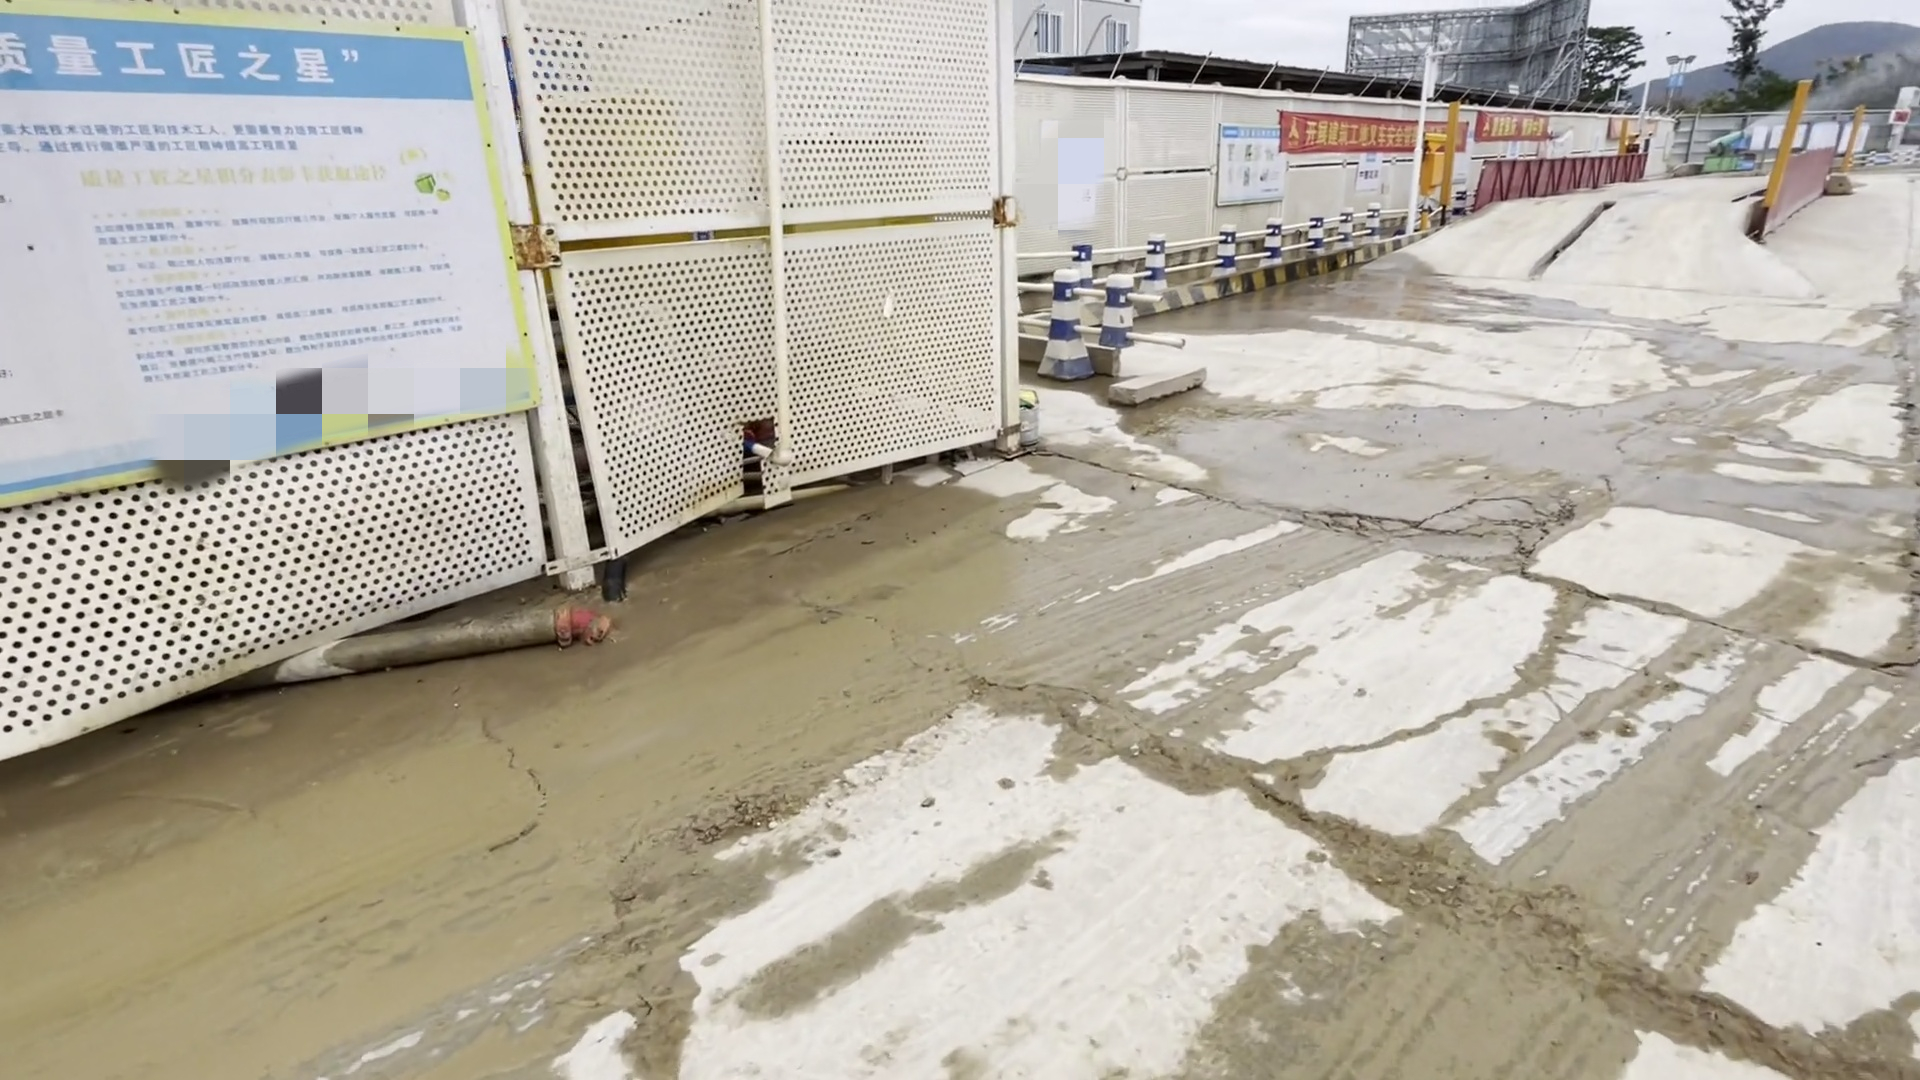slogan: (11, 15, 534, 502)
